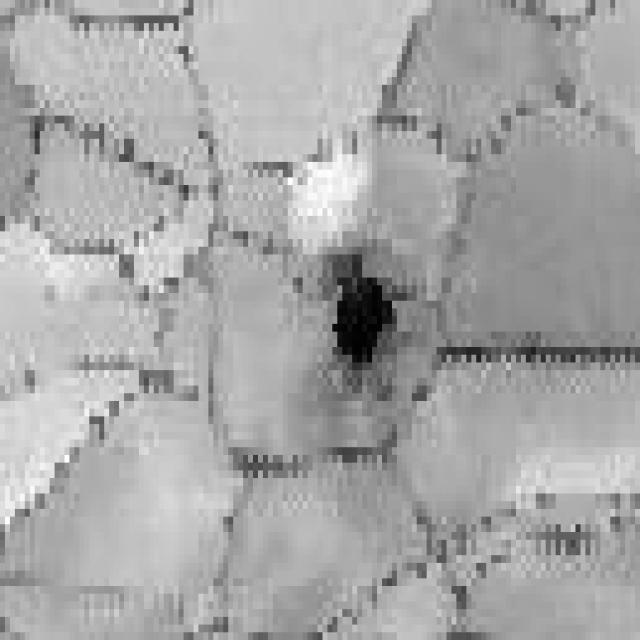good_void: (325, 241, 400, 386)
